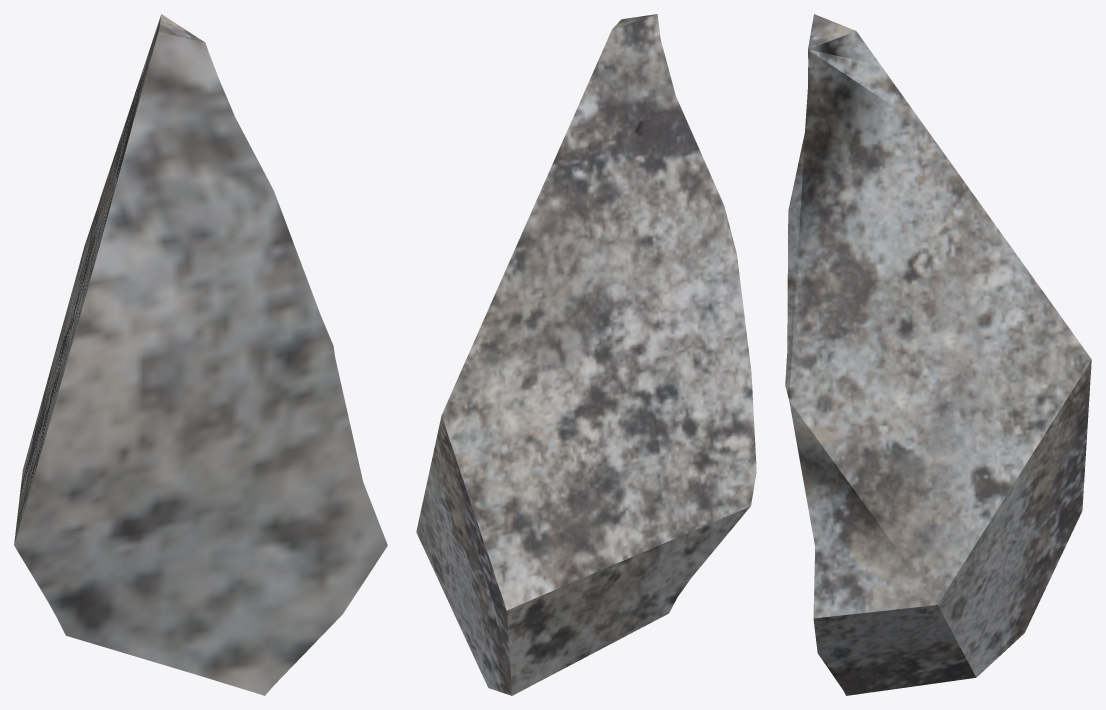
Rendered from Asteroid_Large_001_02_007_03_009.fbx.
The picture shows the model from 3 angles, left to right: view 1: azimuth 30°, elevation 25°; view 2: azimuth 150°, elevation 25°; view 3: azimuth 270°, elevation 25°; orthographic projection. The views are drawn at different scales.
Parts seen in each view (by area): view 1: Asteroid_Large_001_02_007_03_009; view 2: Asteroid_Large_001_02_007_03_009; view 3: Asteroid_Large_001_02_007_03_009.
Boxes of the visible parts, x1=… form: Asteroid_Large_001_02_007_03_009: x1=14, y1=14, x2=387, y2=695; Asteroid_Large_001_02_007_03_009: x1=416, y1=14, x2=756, y2=695; Asteroid_Large_001_02_007_03_009: x1=785, y1=14, x2=1091, y2=695.
Size of the model in its own units: 6.11 by 11.71 by 5.18.
